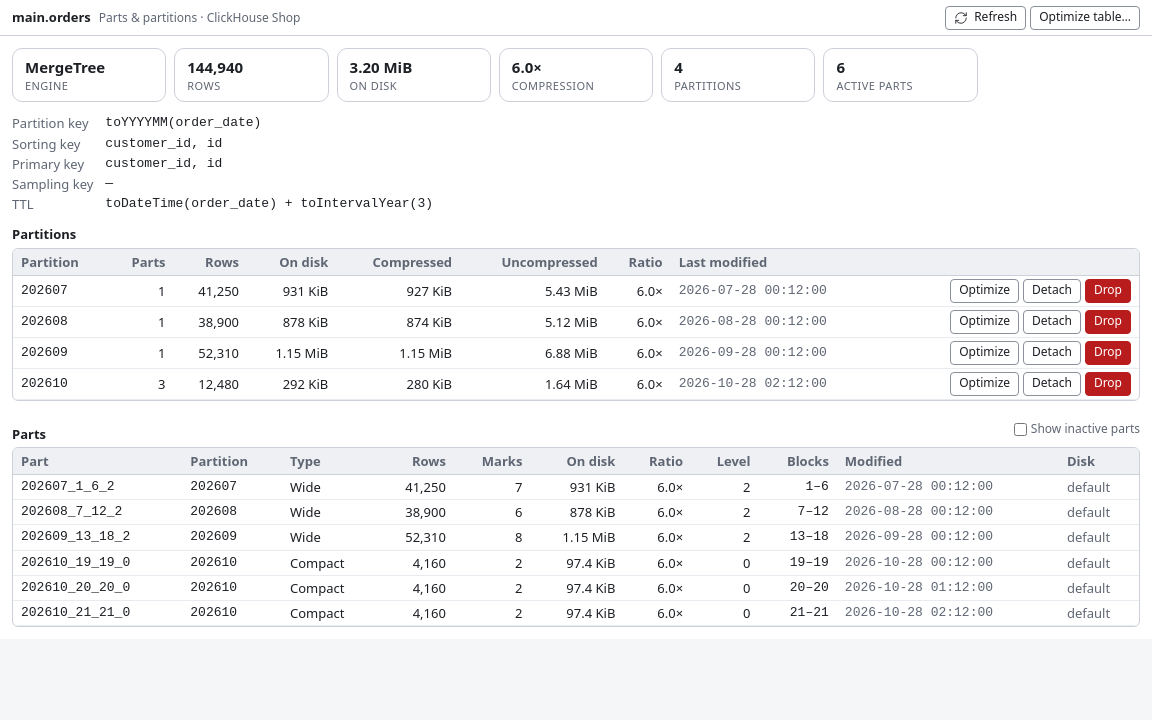
Test: parts & partitions › shows engine keys, tiles, partitions and active parts; inactive parts on request
Expected: the table named "Partitions" is shown, [13, 248, 1139, 400]
Expected: the text "toYYYYMM(order_date)" is shown, [105, 115, 261, 130]
What coordinates should you click on to do the following:
click the checkbox labelled "Show inactive parts"
I would click on:
 (1020, 430)
Its box is [1014, 423, 1027, 436].
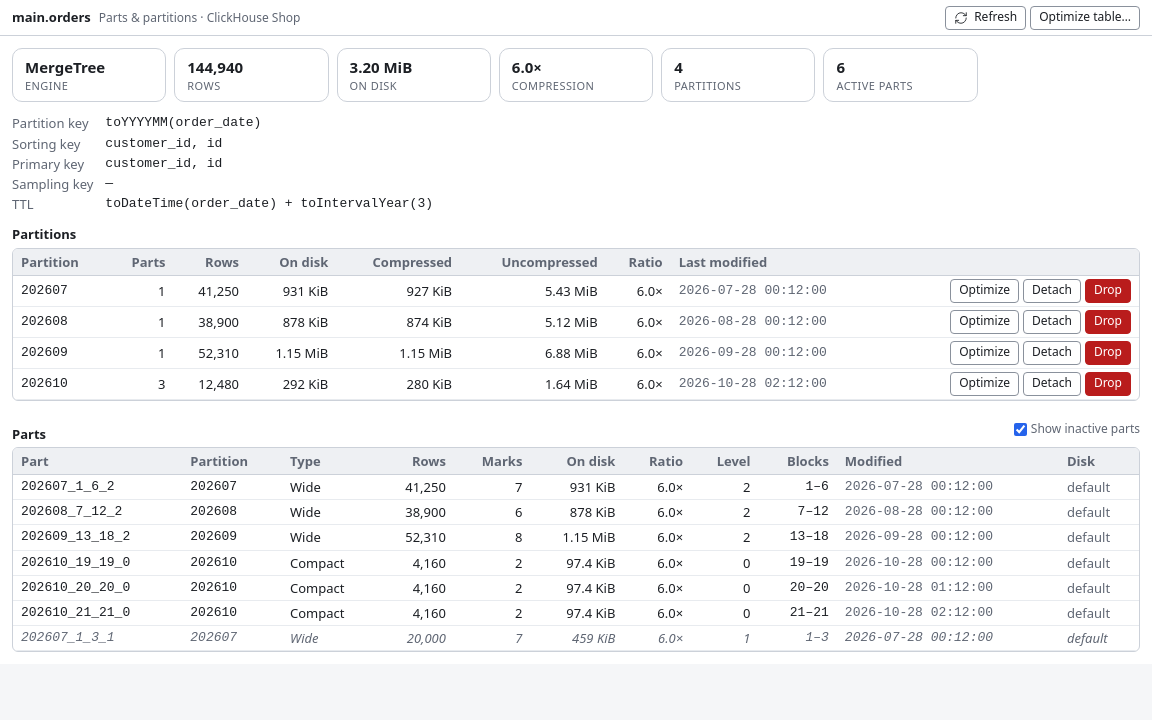
Result: the text "202607_1_3_1" is shown at [13, 626, 182, 651]
